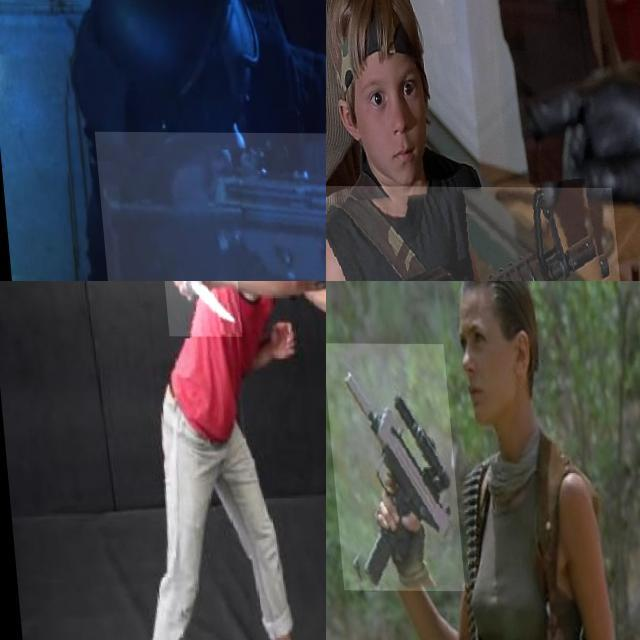-: (158, 281, 238, 336)
gun-knife-thesis - v11 Yolov5 augmented: (89, 131, 326, 281), (326, 343, 457, 590), (326, 184, 631, 281)
